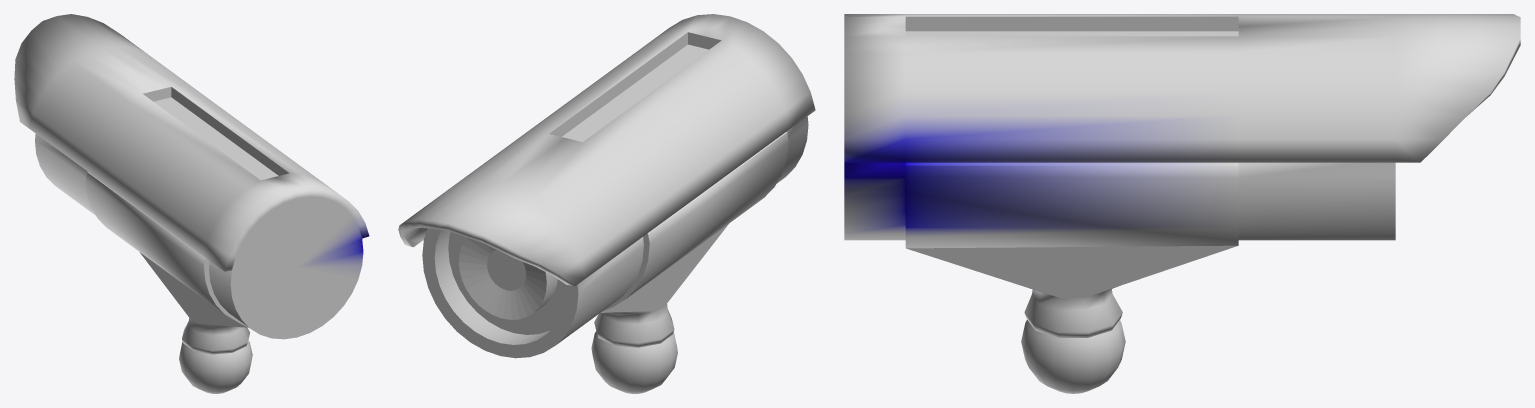
The model's file is Camera.fbx.
The picture shows the model from 3 angles, left to right: view 1: azimuth 30°, elevation 25°; view 2: azimuth 150°, elevation 25°; view 3: azimuth 270°, elevation 25°; orthographic projection. The views are drawn at different scales.
Parts seen in each view (by area): view 1: Cylinder.000, Cylinder.001, Cylinder.003; view 2: Cylinder.000, Cylinder.001, Cylinder.003; view 3: Cylinder.000, Cylinder.001, Cylinder.003.
Boxes of the visible parts, x1=… form: Cylinder.000: x1=14, y1=14, x2=369, y2=271; Cylinder.001: x1=35, y1=134, x2=363, y2=354; Cylinder.003: x1=179, y1=340, x2=252, y2=393; Cylinder.000: x1=398, y1=14, x2=815, y2=286; Cylinder.001: x1=422, y1=116, x2=808, y2=358; Cylinder.003: x1=591, y1=331, x2=677, y2=393; Cylinder.000: x1=844, y1=14, x2=1520, y2=162; Cylinder.001: x1=844, y1=162, x2=1395, y2=337; Cylinder.003: x1=1021, y1=320, x2=1125, y2=393.
Size of the model in its own units: 218 by 372 by 626.
